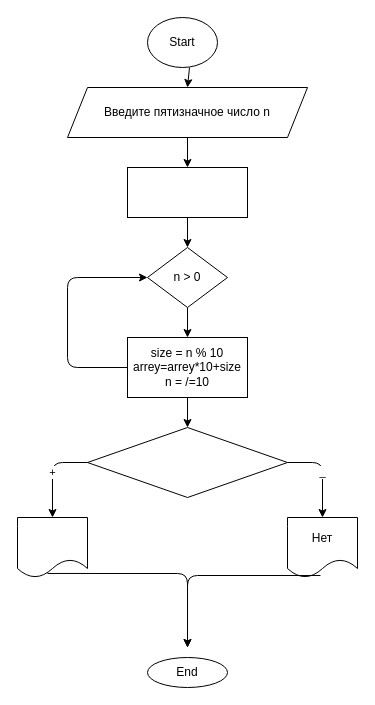
This 375x705 diagram has some shape labels left out. Here are the shapes that lost their labels. From the top down, the centre of each, then its label:
point (187, 192): number = n array = 0 size = 0
point (187, 462): number == arrey ?
point (52, 547): Да
